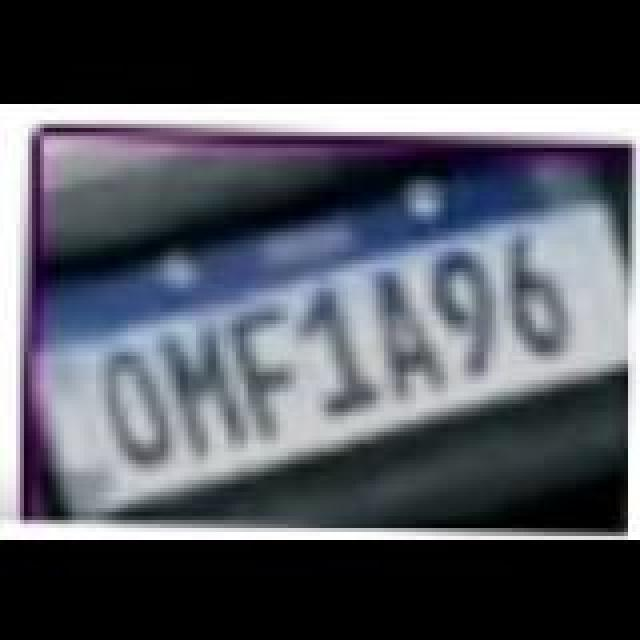1: (298, 282, 382, 414)
6: (504, 234, 576, 358)
9: (432, 248, 504, 376)
A: (368, 264, 448, 400)
F: (226, 306, 302, 438)
M: (160, 320, 248, 456)
O: (100, 342, 180, 466)
